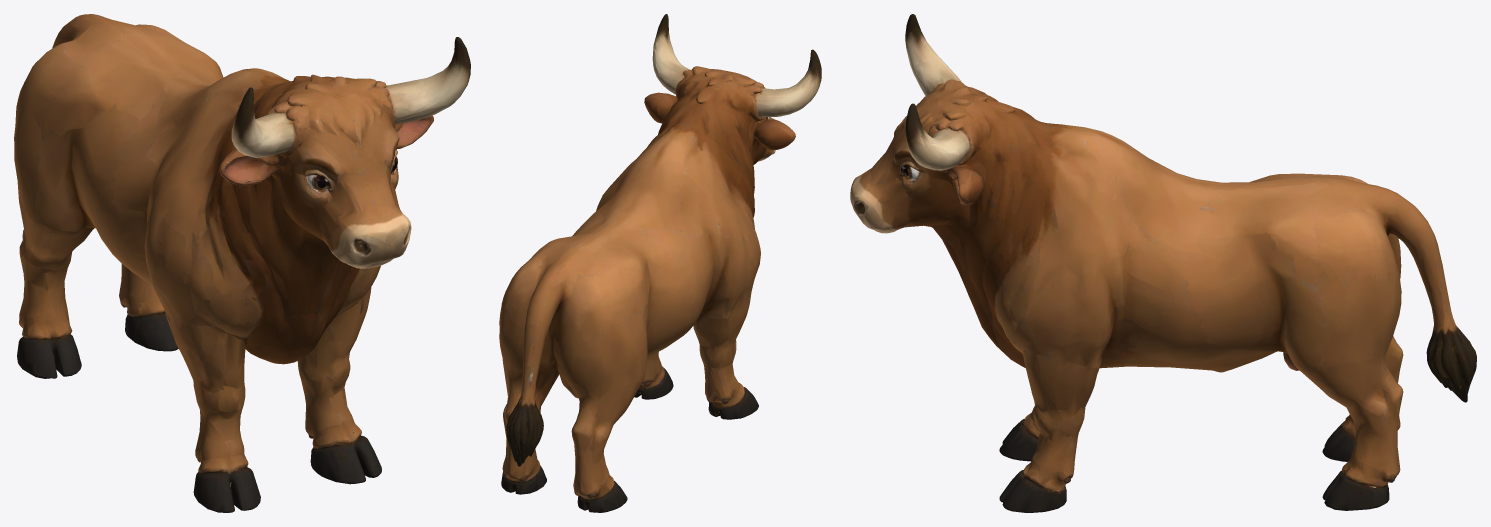
File: upm_mu5vzr624rs.glb
3 renders of one model, left to right at view 1: azimuth 30°, elevation 25°; view 2: azimuth 150°, elevation 25°; view 3: azimuth 270°, elevation 25°, orthographic. The views are drawn at different scales.
Bounding box in the file's own units: 0.7233 × 1.4 × 1.9.
Materials: 1 (1 with a texture image).
